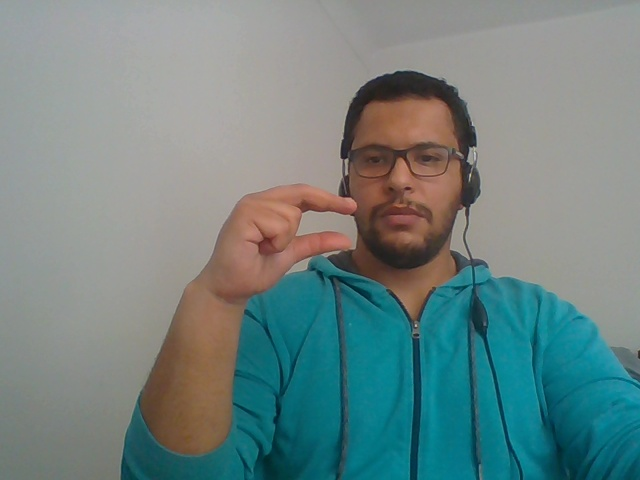no: (187, 158, 374, 315)
